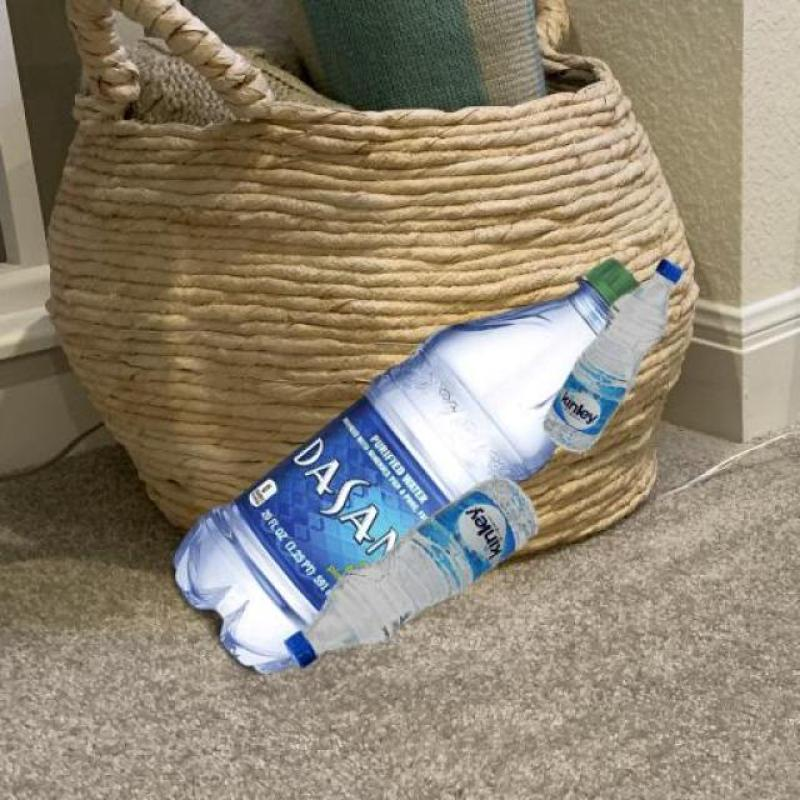botella: (172, 258, 639, 668), (283, 480, 539, 668), (544, 260, 684, 452)
